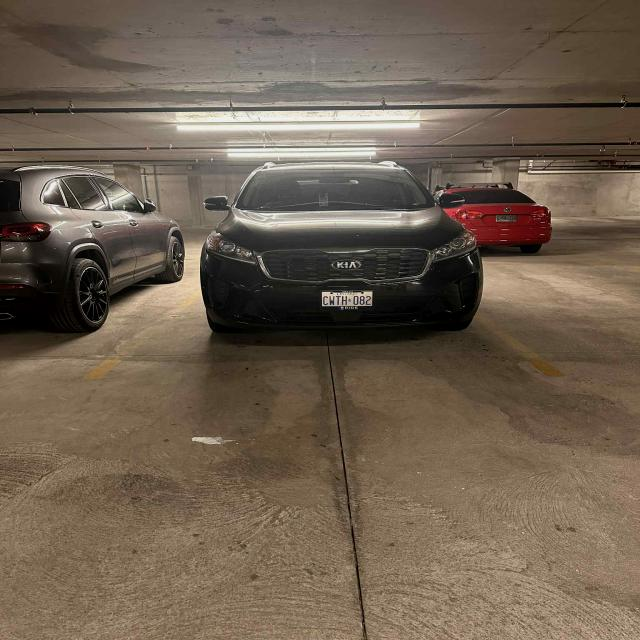plaque: (321, 291, 372, 309), (496, 215, 516, 221)
